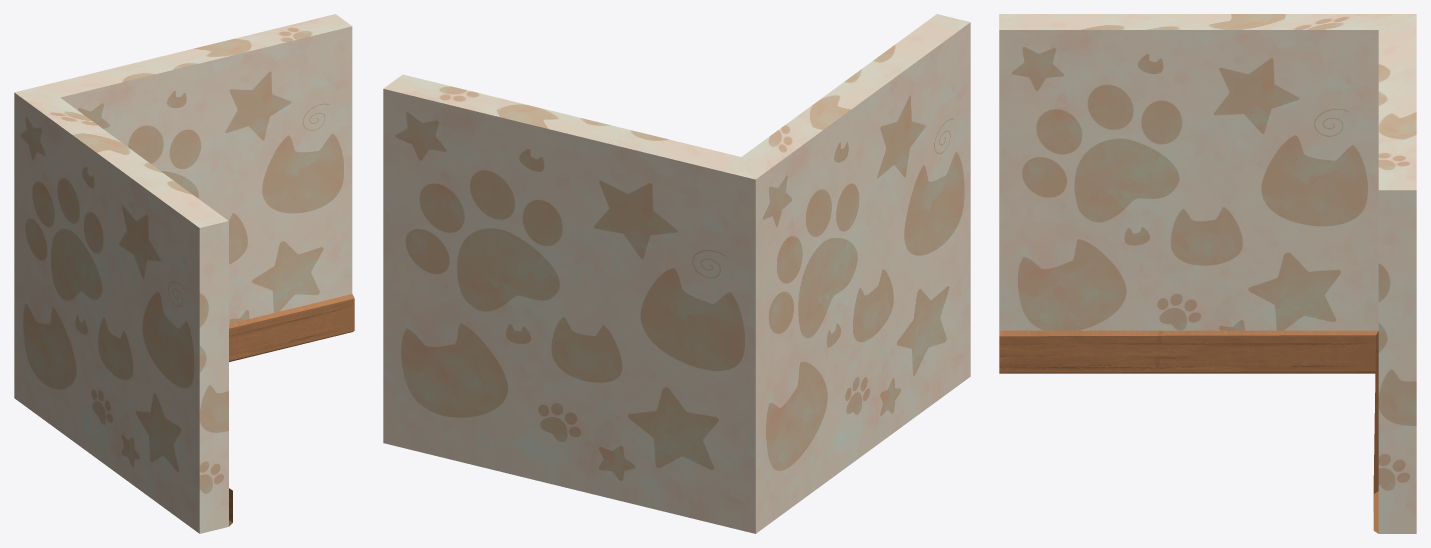
Rendered from WallAngle_001_SM.fbx.
3 renders of one model, left to right at view 1: azimuth 30°, elevation 25°; view 2: azimuth 150°, elevation 25°; view 3: azimuth 270°, elevation 25°, orthographic. The views are drawn at different scales.
Visible parts, largest first — view 1: WallAngle_001_SM; view 2: WallAngle_001_SM; view 3: WallAngle_001_SM.
Part boxes in pixels (box(x1,y1,x2,y2)): WallAngle_001_SM: box(14, 14, 354, 533); WallAngle_001_SM: box(383, 14, 970, 533); WallAngle_001_SM: box(999, 14, 1416, 533).
Size of the model in its own units: 275 by 250 by 275.
Materials: 1 (1 with a texture image).
